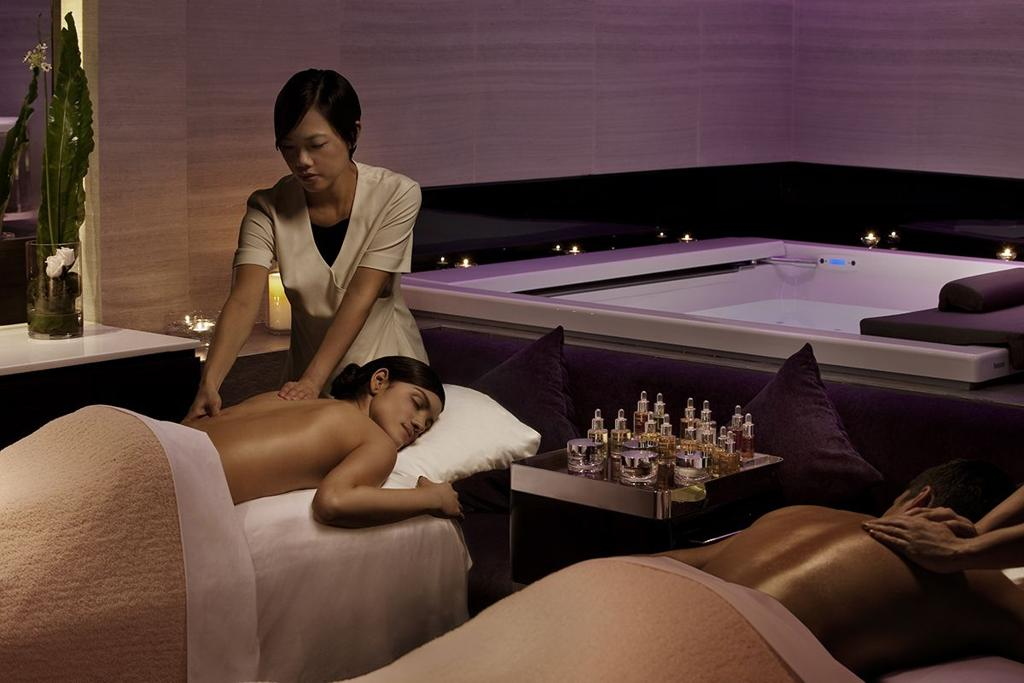face: (376, 382, 442, 448), (276, 128, 348, 188)
